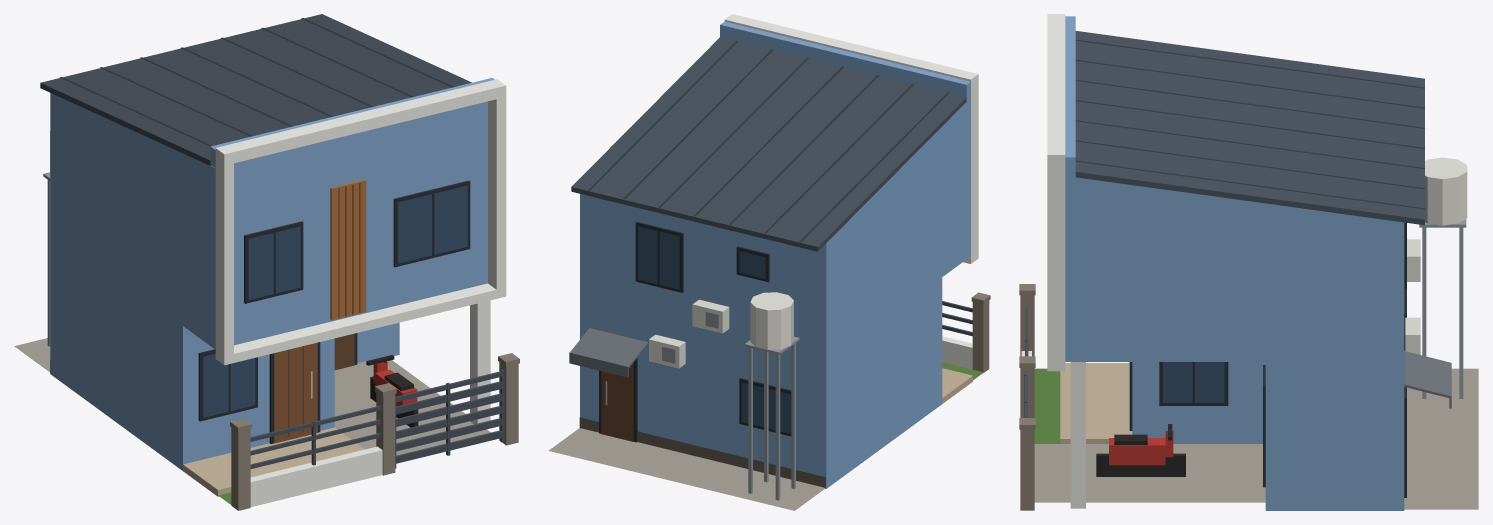
File: rumah2_06.glb
3 views of the same model, side by side, from view 1: azimuth 30°, elevation 25°; view 2: azimuth 150°, elevation 25°; view 3: azimuth 270°, elevation 25° (orthographic). The views are drawn at different scales.
Visible parts, largest first — view 1: rumah2_06; view 2: rumah2_06; view 3: rumah2_06.
Boxes of the visible parts, x1=… form: rumah2_06: x1=14, y1=14, x2=519, y2=510; rumah2_06: x1=548, y1=14, x2=990, y2=510; rumah2_06: x1=1019, y1=14, x2=1478, y2=510.
Size of the model in its own units: 6.5 by 7.65 by 8.95.
